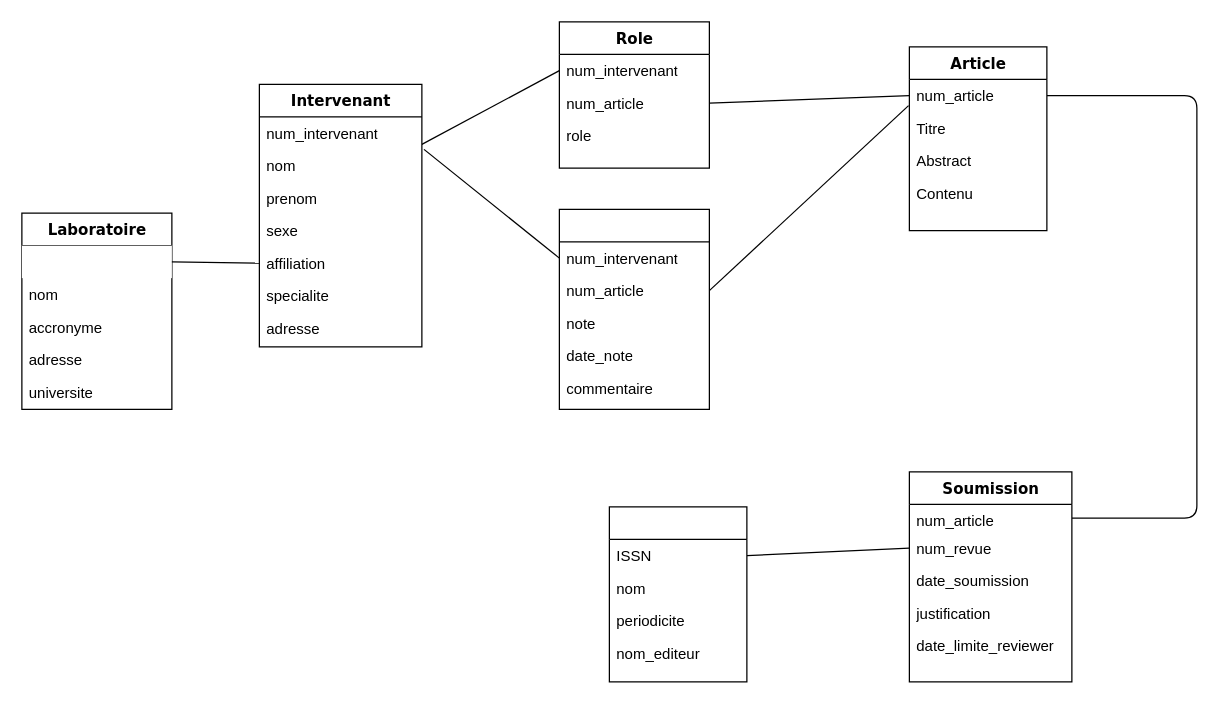
Some shapes in this 1220 by 704 pixel diagram are drawn without their labels. Here are the shapes that lost their labels. From the top down, the box of each, then its label:
(21, 245, 171, 278): ID_laboratoire
(558, 208, 709, 409): Analyse
(608, 506, 747, 682): Revue
